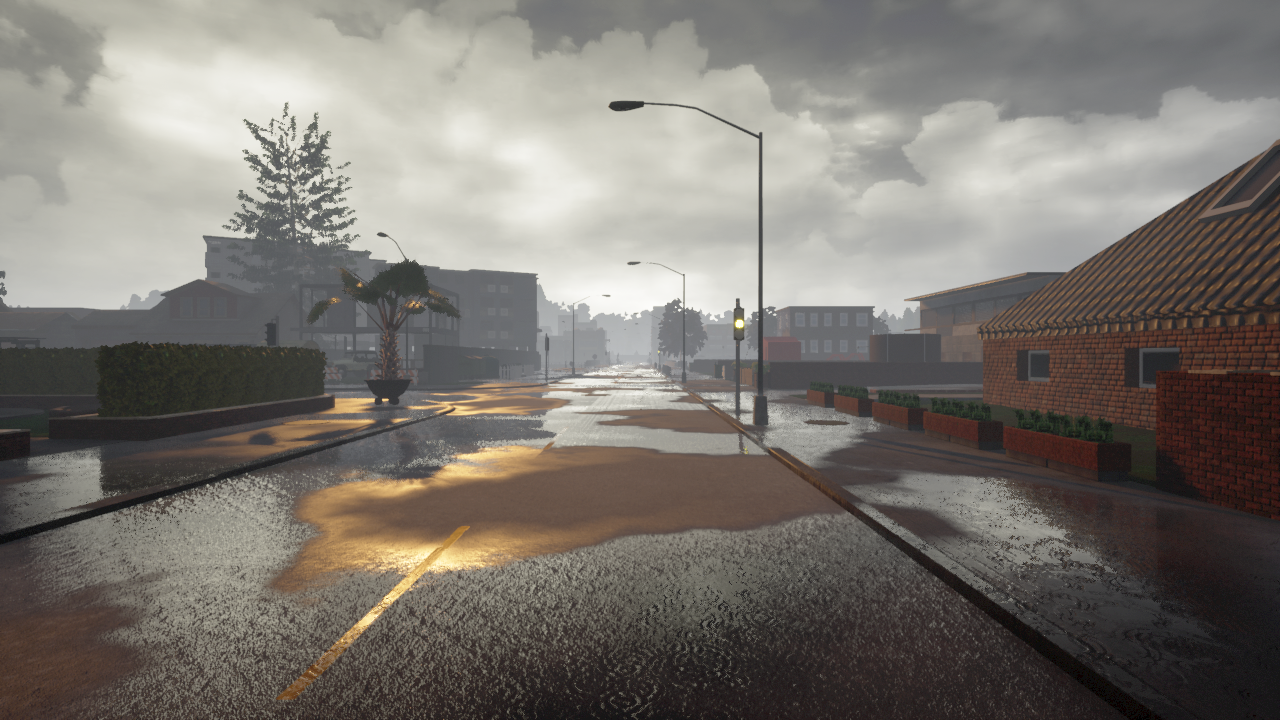yellow: (732, 305, 746, 340)
